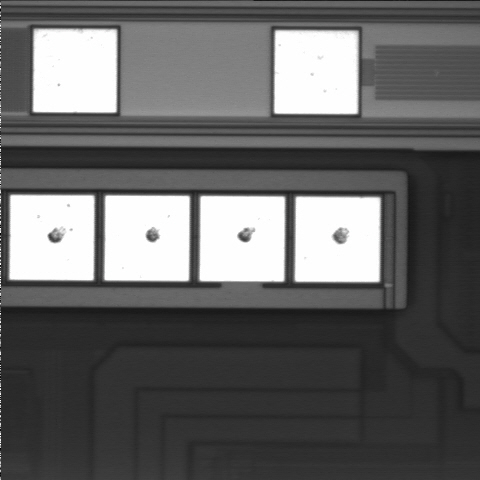pad: (104, 196, 190, 281), (9, 195, 94, 280), (200, 196, 285, 281), (295, 197, 380, 282), (33, 29, 117, 112), (274, 31, 358, 114)
